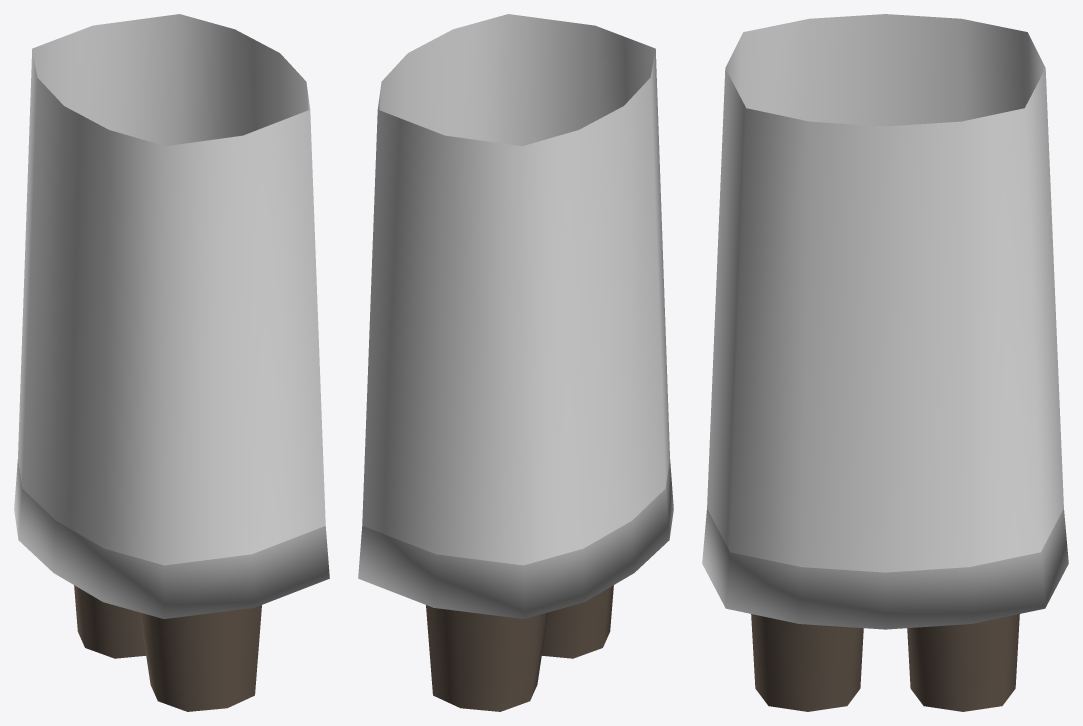
The model's file is long_skirt.fbx.
3 views of the same model, side by side, from view 1: azimuth 30°, elevation 25°; view 2: azimuth 150°, elevation 25°; view 3: azimuth 270°, elevation 25° (orthographic). The views are drawn at different scales.
Parts seen in each view (by area): view 1: Cube.014; view 2: Cube.014; view 3: Cube.014.
Part boxes in pixels (x1,y1,x2,y2): Cube.014: (14,14,329,711); Cube.014: (358,14,673,711); Cube.014: (702,14,1068,711).
Bounding box in the file's own units: 118 × 271 × 145.
